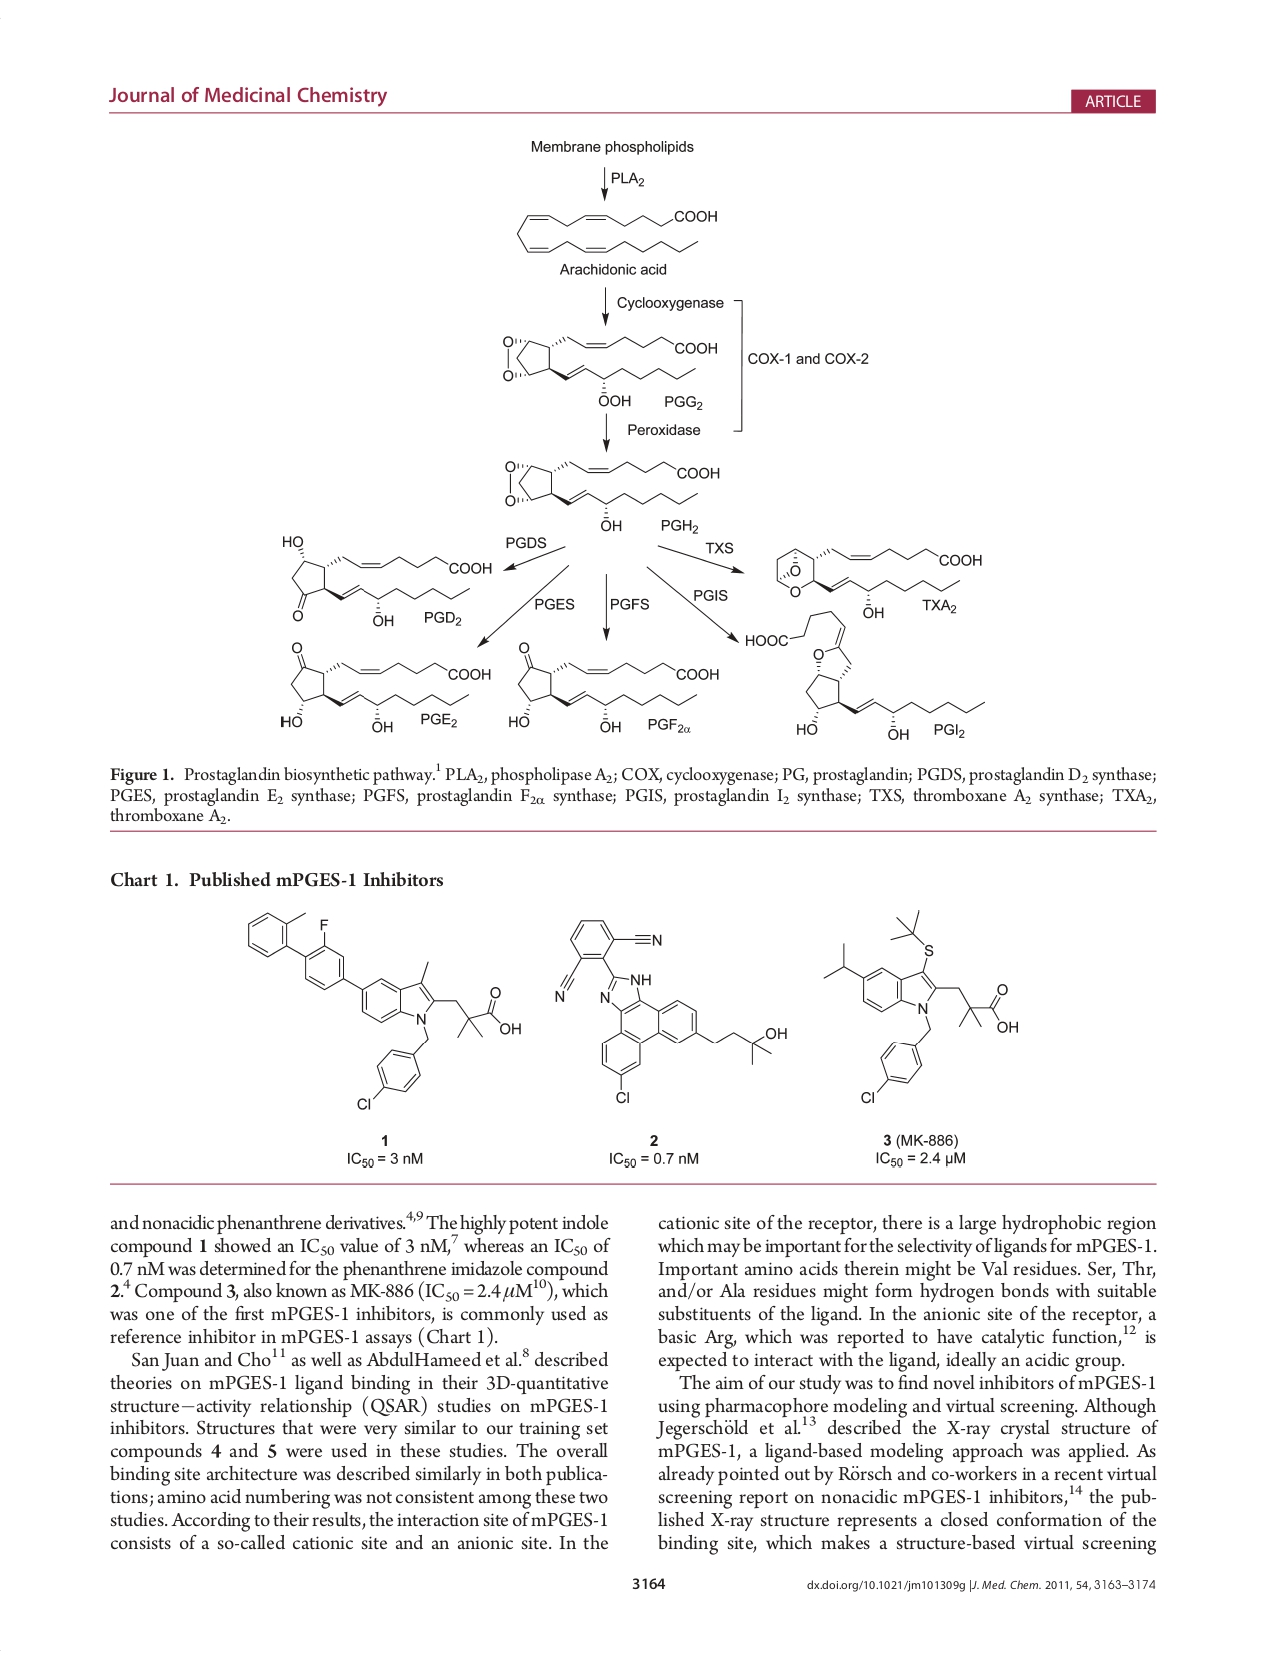exist_molecular: (243, 907, 524, 1114), (548, 908, 797, 1110), (823, 906, 1024, 1110), (743, 608, 985, 742), (279, 531, 493, 630), (277, 638, 495, 735), (508, 638, 722, 735), (491, 328, 719, 408), (499, 455, 722, 533), (773, 543, 984, 618), (507, 209, 721, 261)
